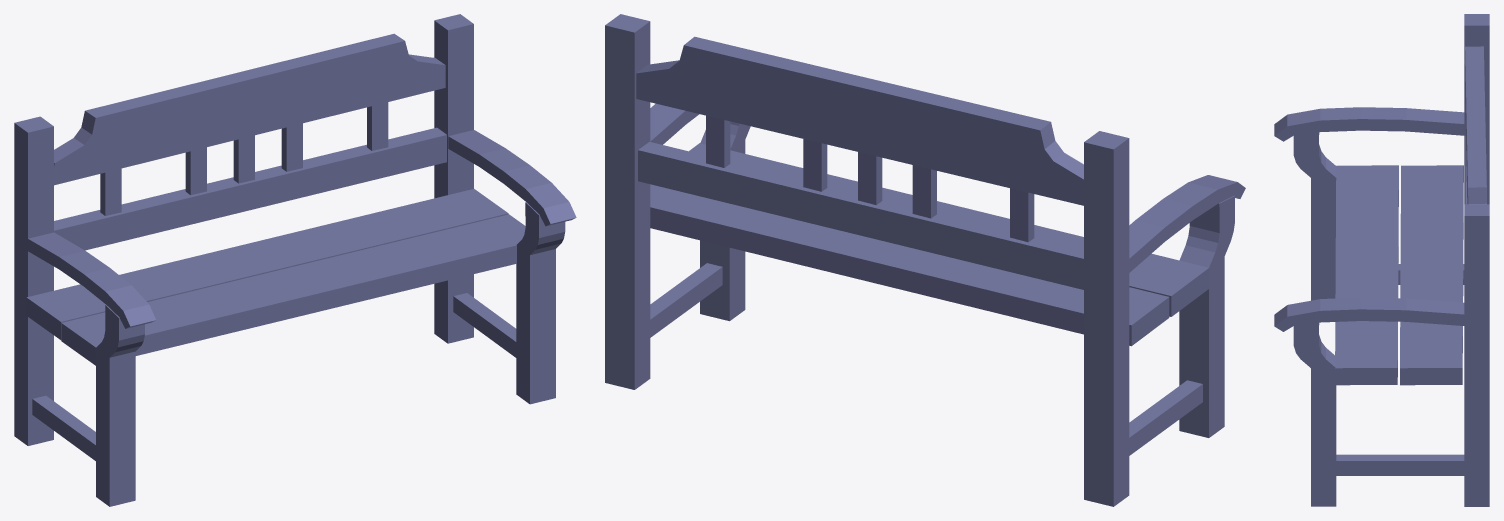
The model's file is Bench_2.fbx.
The picture shows the model from 3 angles, left to right: view 1: azimuth 30°, elevation 25°; view 2: azimuth 150°, elevation 25°; view 3: azimuth 270°, elevation 25°; orthographic projection. The views are drawn at different scales.
Parts seen in each view (by area): view 1: Bench_2; view 2: Bench_2; view 3: Bench_2.
Part boxes in pixels (<box>): Bench_2: <box>14,14,576,506</box>; Bench_2: <box>605,14,1245,506</box>; Bench_2: <box>1274,14,1489,506</box>.
Bounding box in the file's own units: 191 × 85.72 × 128.
